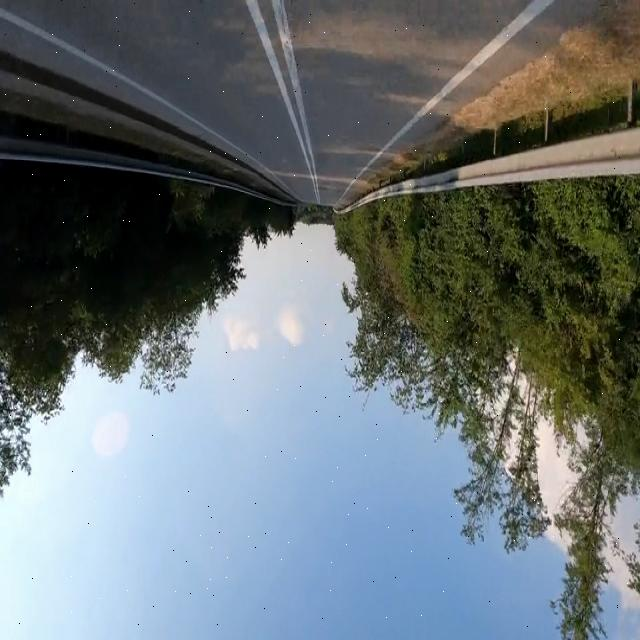lane: (0, 8, 271, 173), (339, 0, 551, 200), (272, 0, 318, 200), (246, 1, 301, 140)
road: (0, 2, 595, 206)
